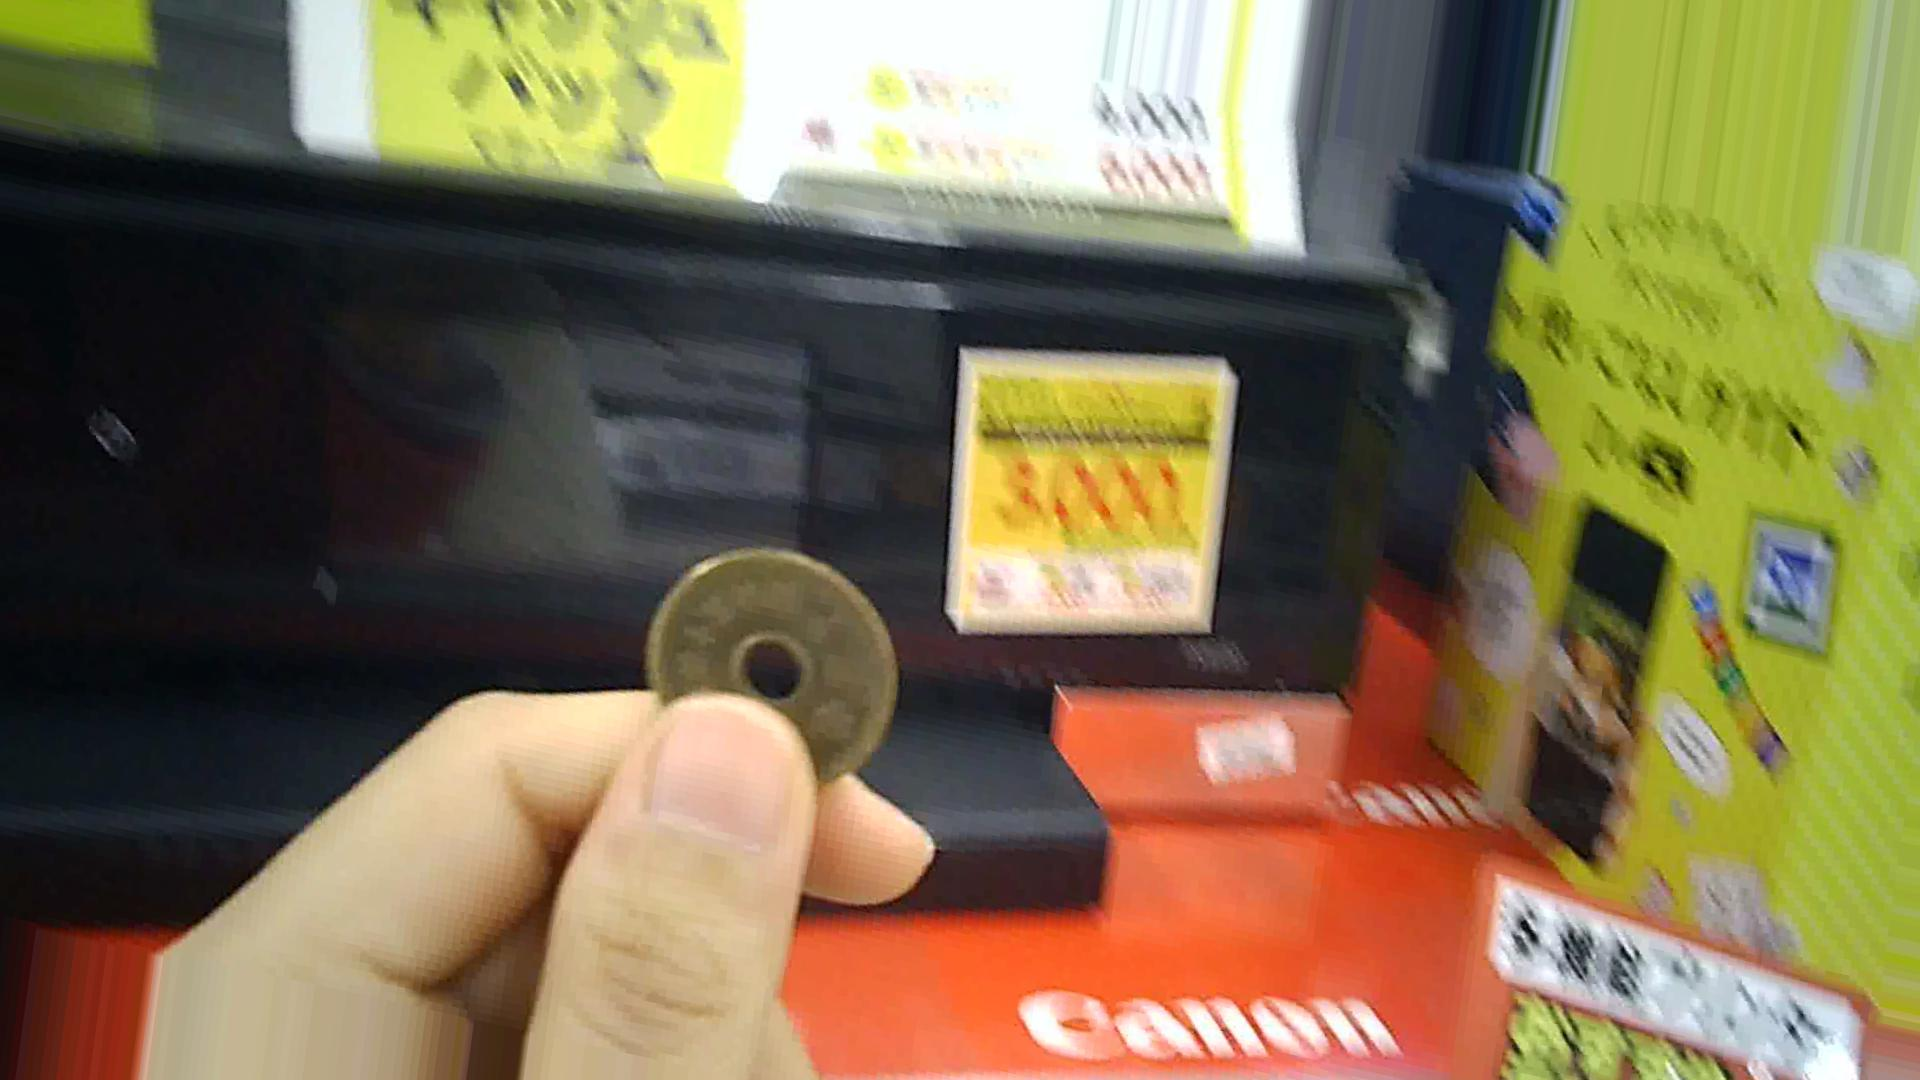5 Yen: (647, 551, 884, 786)
